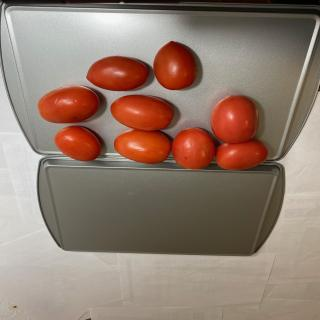Chilli: (37, 40, 270, 170)
Tomato: (37, 85, 100, 124), (110, 94, 174, 131), (210, 95, 259, 143), (153, 41, 198, 90), (86, 56, 148, 91), (114, 129, 172, 164), (172, 128, 215, 170), (54, 125, 101, 162), (216, 140, 268, 170)
